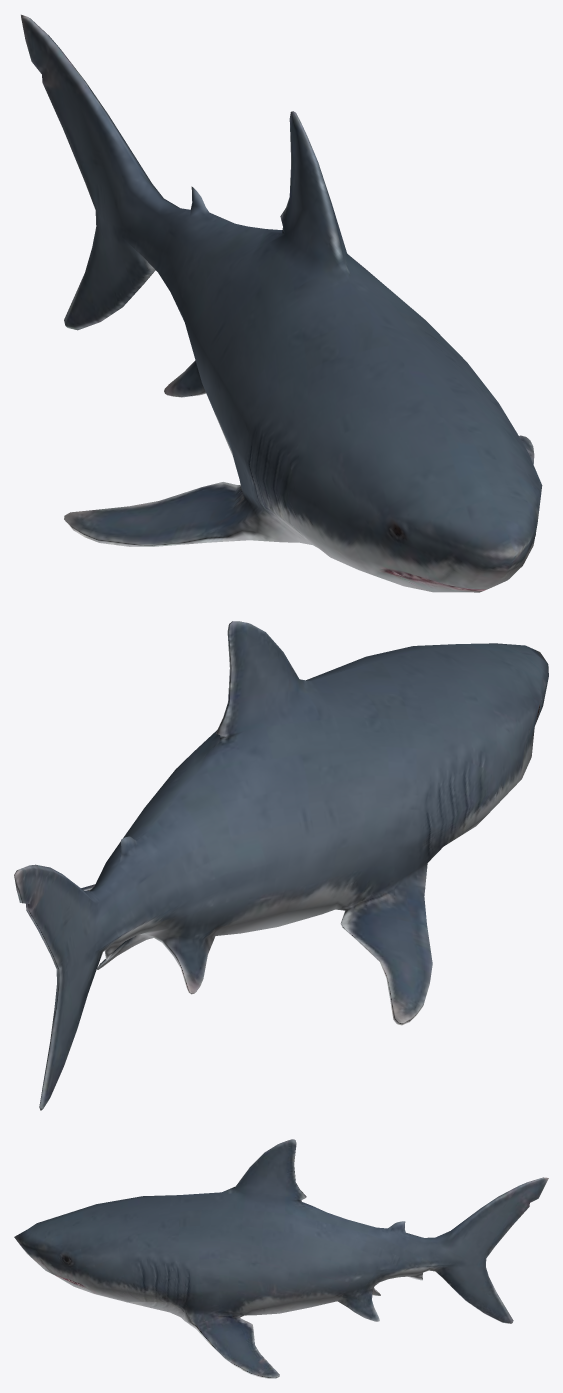
File: body-base.glb
The picture shows the model from 3 angles, top to bottom: view 1: azimuth 30°, elevation 25°; view 2: azimuth 150°, elevation 25°; view 3: azimuth 270°, elevation 25°; orthographic projection. The views are drawn at different scales.
Size of the model in its own units: 2 by 1.68 by 4.32.
Materials: 1 (1 with a texture image).
